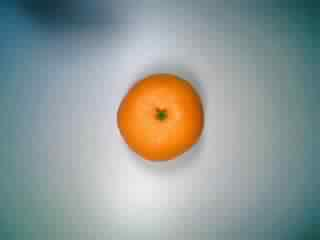orange: (112, 66, 207, 168)
